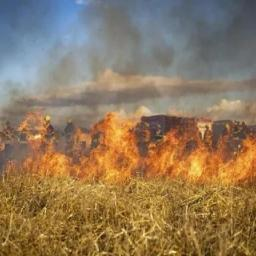Low smoke: (41, 7, 256, 113)
Medium fire: (0, 105, 256, 193)
